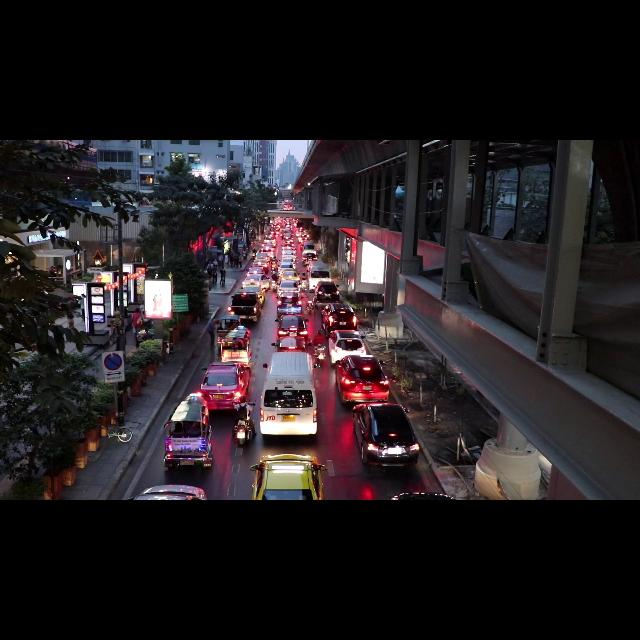car: (353, 403, 419, 465), (250, 454, 326, 499), (335, 355, 389, 403), (200, 362, 250, 409), (328, 330, 367, 364), (321, 303, 357, 333), (129, 485, 206, 499), (276, 315, 308, 338), (277, 293, 303, 314), (272, 336, 306, 351), (315, 282, 339, 303), (242, 285, 265, 304), (242, 274, 270, 288), (391, 493, 454, 499), (278, 280, 299, 296), (252, 259, 269, 271), (281, 257, 296, 268), (247, 266, 265, 275), (281, 271, 299, 280), (279, 263, 295, 273), (304, 253, 318, 261), (256, 251, 270, 259), (282, 250, 295, 257), (282, 246, 293, 250)
motorcycle: (233, 412, 253, 445), (314, 346, 326, 360), (306, 300, 314, 313), (270, 280, 276, 290)
